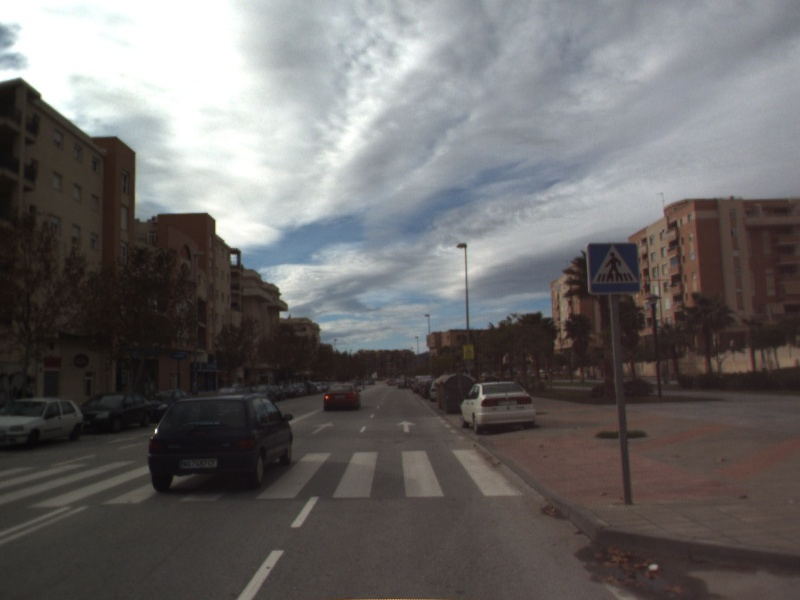STRAIGHT: (309, 420, 336, 436), (395, 418, 418, 434)
